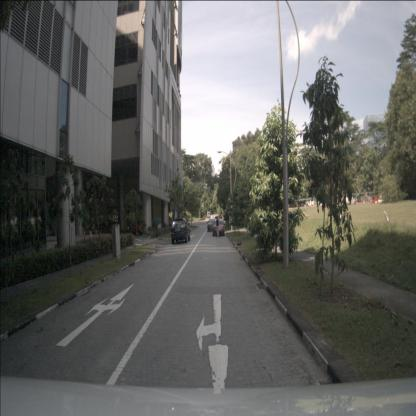human-pedestrian-adult: (216, 216, 219, 238)
movable_object-trafficcone: (82, 231, 87, 242), (95, 230, 99, 242), (88, 230, 92, 241), (90, 231, 94, 240)
vehicle-car: (171, 218, 190, 245), (124, 221, 144, 235), (213, 216, 225, 236), (207, 218, 216, 232)
